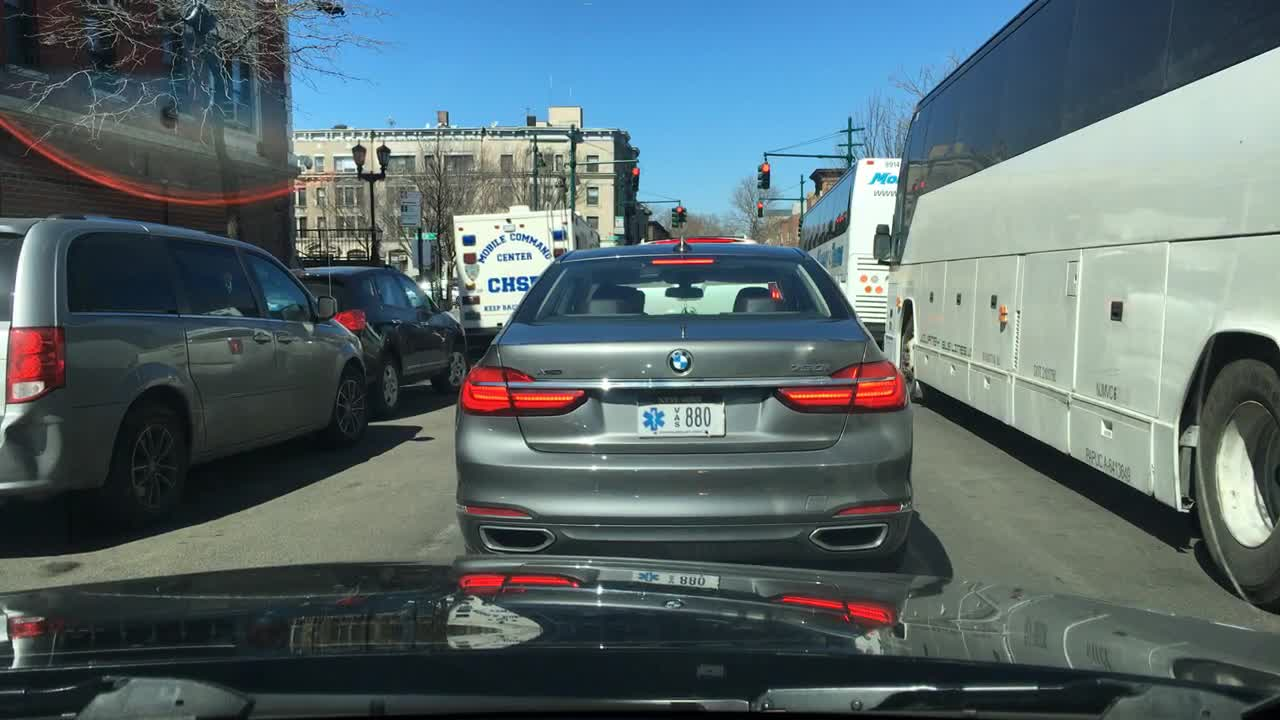bus: (871, 2, 1278, 612), (799, 156, 902, 350)
car: (454, 232, 912, 574), (0, 212, 371, 523), (286, 261, 469, 416), (634, 233, 759, 244)
traffic light: (761, 162, 770, 189), (632, 166, 640, 191), (755, 164, 762, 189), (676, 205, 684, 225), (757, 198, 765, 217), (671, 207, 676, 226)
traffic sign: (399, 187, 421, 228), (408, 239, 433, 266), (765, 207, 793, 216), (414, 229, 437, 238), (614, 217, 623, 233)
truck: (453, 205, 599, 360)
